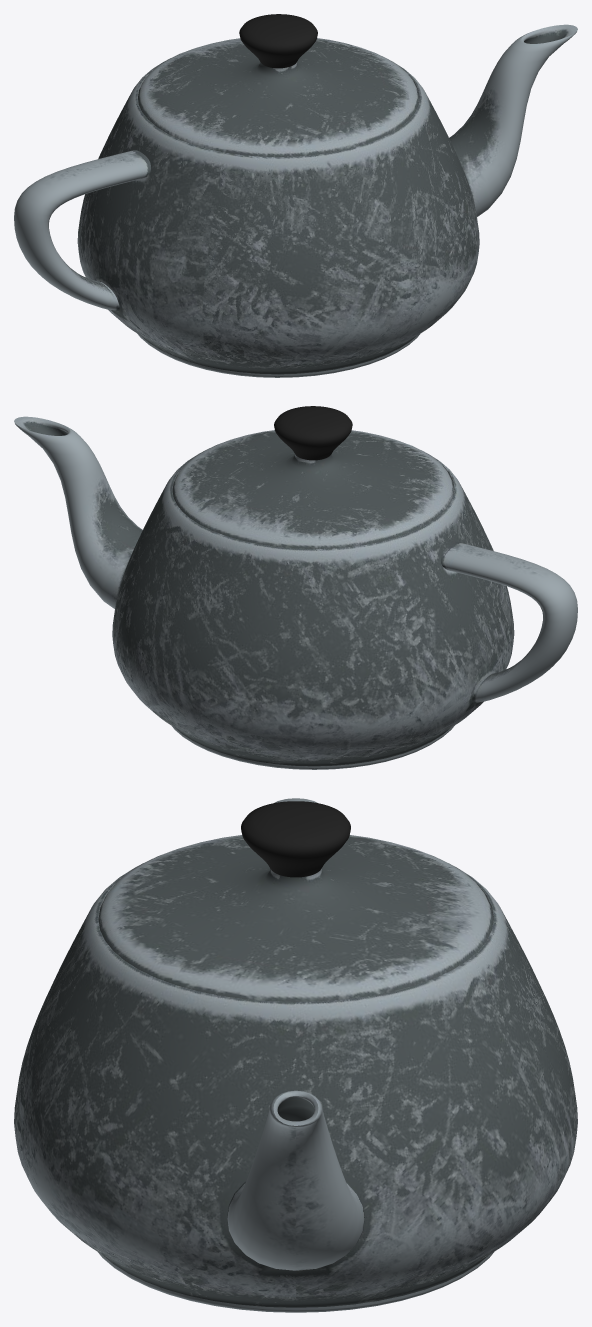
Rendered from teapot.glb.
3 views of the same model, one above another, from view 1: azimuth 30°, elevation 25°; view 2: azimuth 150°, elevation 25°; view 3: azimuth 270°, elevation 25° (orthographic). The views are drawn at different scales.
Visible parts, largest first — view 1: teapot.001, teapot.002; view 2: teapot.001, teapot.002; view 3: teapot.001, teapot.002.
Part boxes in pixels (left/top/right/bottom): teapot.001: left=14, top=24, right=577, bottom=377; teapot.002: left=239, top=14, right=317, bottom=68; teapot.001: left=14, top=416, right=577, bottom=769; teapot.002: left=274, top=406, right=352, bottom=460; teapot.001: left=14, top=798, right=577, bottom=1312; teapot.002: left=241, top=801, right=350, bottom=877.
Size of the model in its own units: 38.93 by 19.95 by 24.2.
2 materials, 2 textured.
